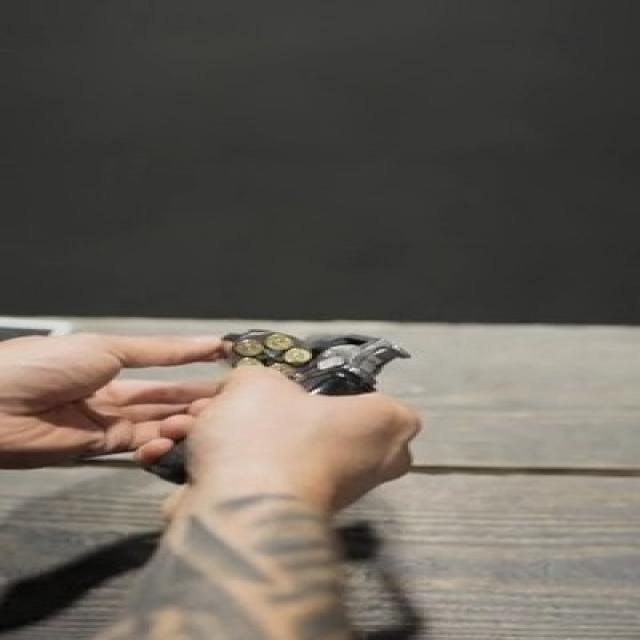Gun_Holder: (138, 320, 485, 500)
